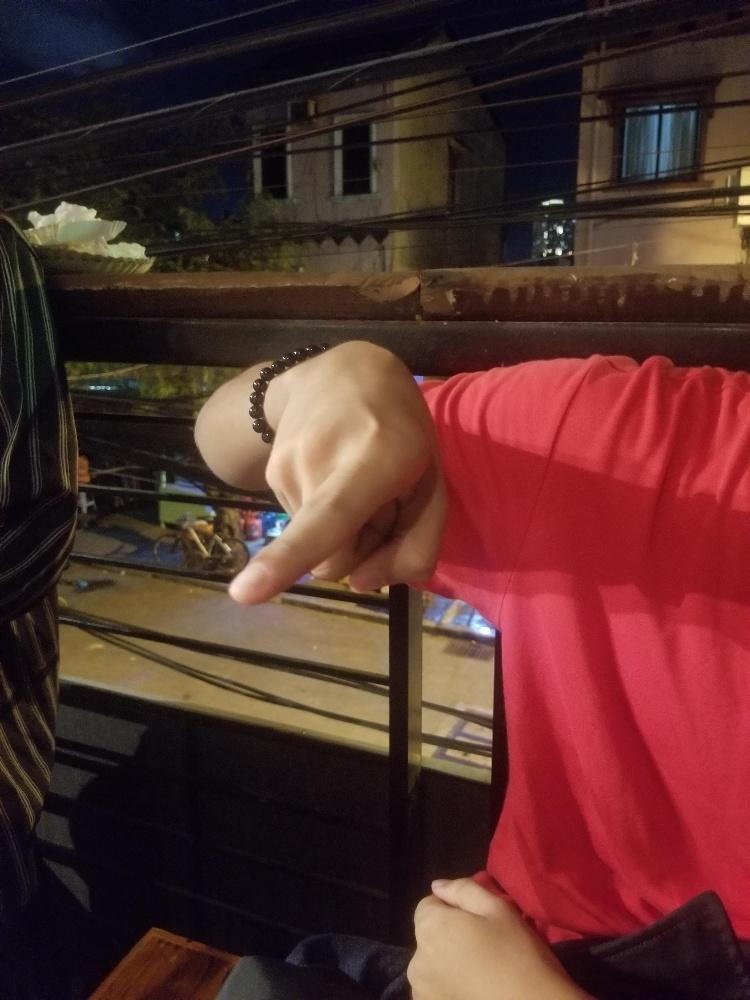z: (225, 339, 452, 607)
